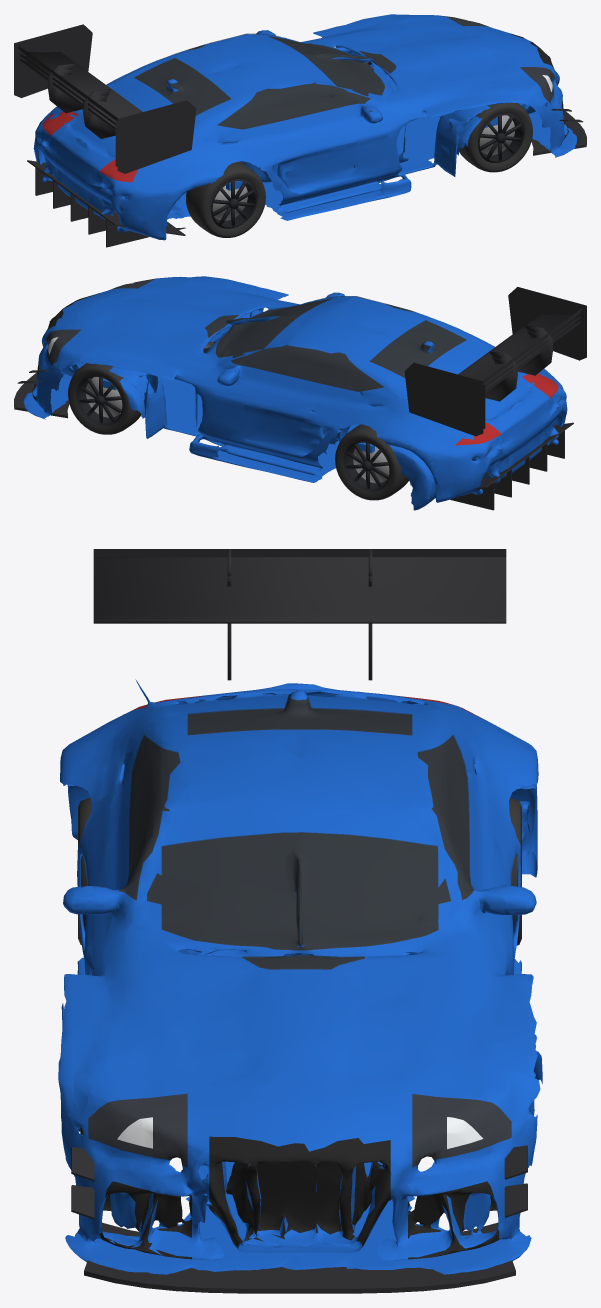
The model's file is bmw_m4_gt3.glb.
3 renders of one model, top to bottom at view 1: azimuth 30°, elevation 25°; view 2: azimuth 150°, elevation 25°; view 3: azimuth 270°, elevation 25°, orthographic. The views are drawn at different scales.
Visible parts, largest first — view 1: body, cabin, bumper_rear, wing_rear_up3, bumper_front, wheel_rr_spin, wheel_fr_spin, wing_rear_up2, diffuser, wing_rear, splitter_up; view 2: body, cabin, bumper_rear, wing_rear_up3, bumper_front, wheel_rl_spin, wheel_fl_spin, wing_rear_up2, diffuser, wing_rear, splitter_up; view 3: body, bumper_front, cabin, wing_rear_up3, splitter_up, canards, splitter, bumper_rear.
Part boxes in pixels (x1=…): body: x1=54, y1=14, x2=542, y2=240; cabin: x1=134, y1=33, x2=396, y2=129; bumper_rear: x1=33, y1=108, x2=168, y2=239; wing_rear_up3: x1=14, y1=24, x2=196, y2=173; bumper_front: x1=431, y1=15, x2=576, y2=157; wheel_rr_spin: x1=186, y1=161, x2=265, y2=237; wheel_fr_spin: x1=459, y1=103, x2=532, y2=172; wing_rear_up2: x1=16, y1=34, x2=117, y2=166; diffuser: x1=27, y1=160, x2=185, y2=247; wing_rear: x1=16, y1=41, x2=117, y2=162; splitter_up: x1=531, y1=111, x2=586, y2=155; body: x1=58, y1=276, x2=550, y2=510; cabin: x1=205, y1=293, x2=466, y2=391; bumper_rear: x1=434, y1=370, x2=567, y2=502; wing_rear_up3: x1=404, y1=287, x2=586, y2=436; bumper_front: x1=23, y1=277, x2=176, y2=419; wheel_rl_spin: x1=335, y1=424, x2=408, y2=500; wheel_fl_spin: x1=68, y1=363, x2=141, y2=434; wing_rear_up2: x1=483, y1=296, x2=584, y2=428; diffuser: x1=450, y1=422, x2=573, y2=510; wing_rear: x1=483, y1=310, x2=584, y2=425; splitter_up: x1=14, y1=372, x2=69, y2=418; body: x1=58, y1=690, x2=542, y2=1223; bumper_front: x1=62, y1=1066, x2=536, y2=1274; cabin: x1=82, y1=692, x2=474, y2=968; wing_rear_up3: x1=93, y1=549, x2=506, y2=680; splitter_up: x1=84, y1=1222, x2=515, y2=1293; canards: x1=71, y1=1145, x2=527, y2=1219; splitter: x1=91, y1=1225, x2=508, y2=1284; bumper_rear: x1=88, y1=679, x2=510, y2=733.
Size of the model in its own units: 5.19 by 1.51 by 2.24.
